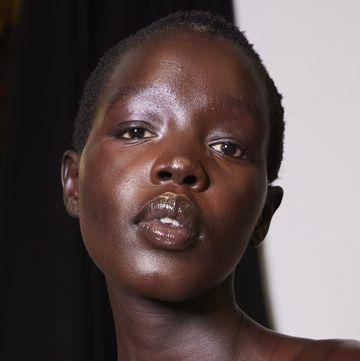Oily-Skin: (85, 164, 148, 263), (120, 51, 210, 119)
